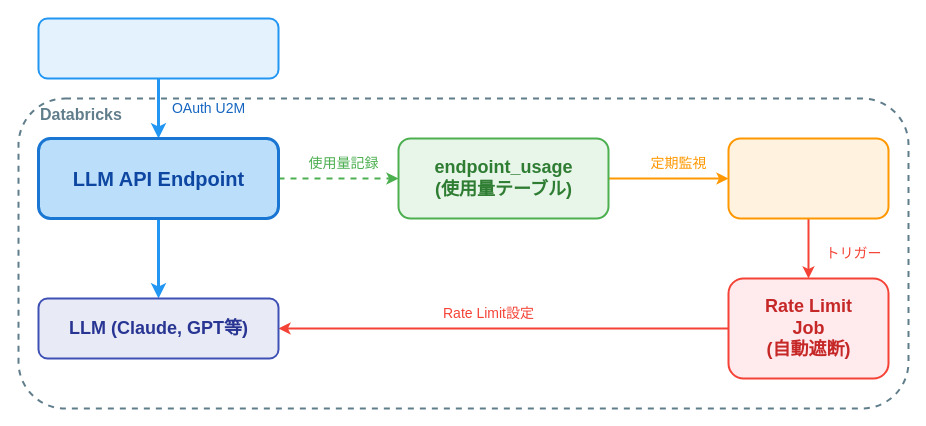
The diagram is 926 pixels wide and 426 high, and some of its shapes have lost their labels. Each missing label, with the centre of its shape:
ユーザー: the point at 158,48
監視Job (予算超過検知): the point at 808,178
